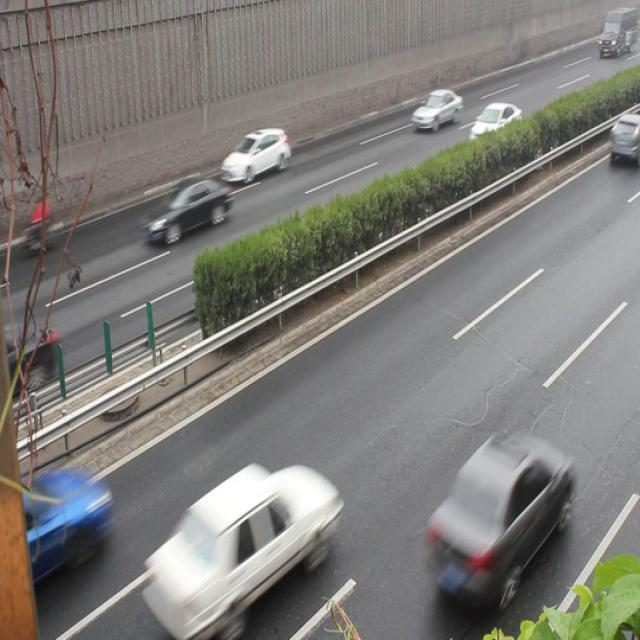car: (141, 465, 339, 622), (426, 431, 572, 604), (9, 464, 112, 579), (139, 177, 228, 244), (221, 128, 291, 186), (466, 104, 521, 154), (412, 89, 460, 131)
